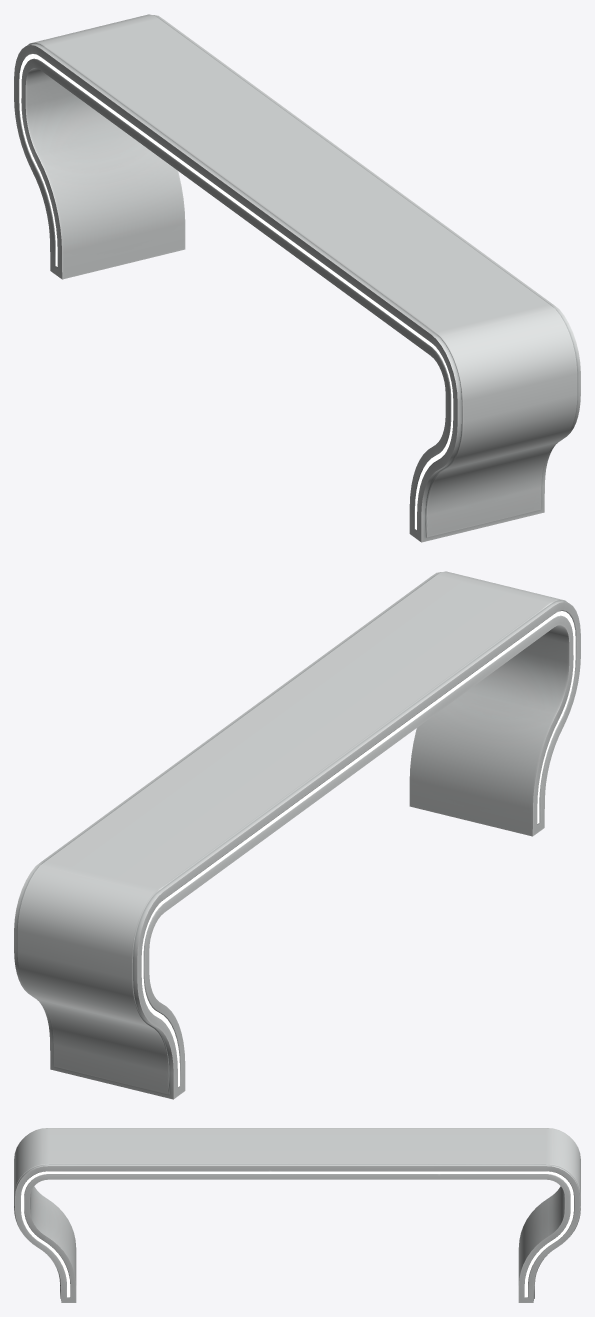
File: SM_Props_TableLong_A_V3.fbx
The picture shows the model from 3 angles, top to bottom: view 1: azimuth 30°, elevation 25°; view 2: azimuth 150°, elevation 25°; view 3: azimuth 270°, elevation 25°; orthographic projection. The views are drawn at different scales.
Visible parts, largest first — view 1: SM_Props_TableLong_A_V3; view 2: SM_Props_TableLong_A_V3; view 3: SM_Props_TableLong_A_V3.
Part boxes in pixels (bbox=[...]): SM_Props_TableLong_A_V3: bbox=[14, 14, 580, 542]; SM_Props_TableLong_A_V3: bbox=[14, 571, 580, 1099]; SM_Props_TableLong_A_V3: bbox=[14, 1128, 580, 1302].
Size of the model in its own units: 56.31 by 351 by 94.11.
Materials: 1 (1 with a texture image).
